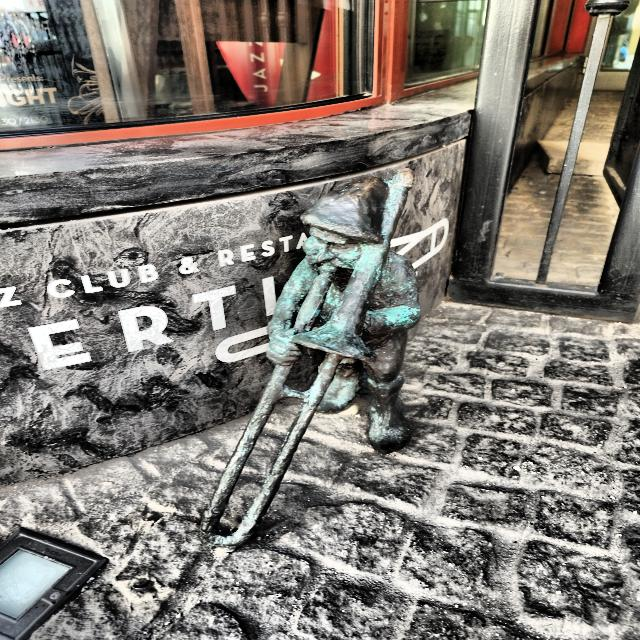Vertigus: (202, 170, 420, 550)
